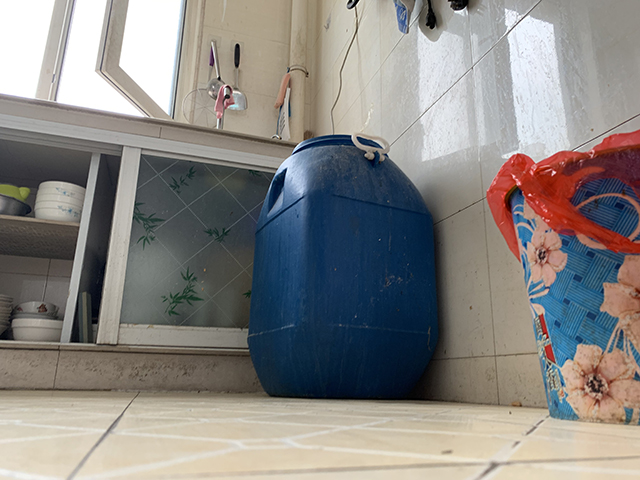cabinet: (1, 91, 295, 395)
trashcan: (486, 130, 640, 428)
